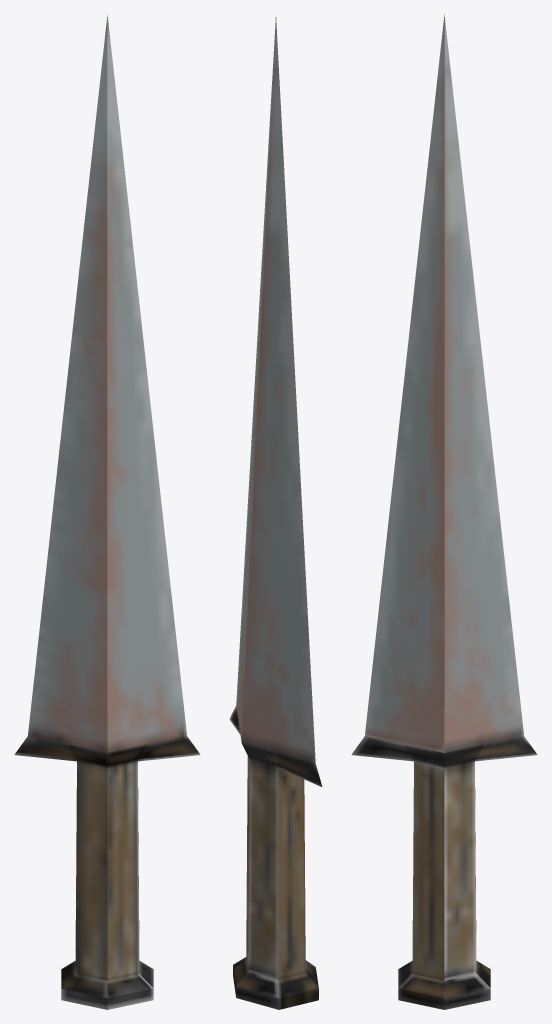
The model's file is dagger1.fbx.
The picture shows the model from 3 angles, left to right: view 1: azimuth 90°, elevation 25°; view 2: azimuth 210°, elevation 25°; view 3: azimuth 270°, elevation 25°; orthographic projection.
Visible parts, largest first — view 1: Circle; view 2: Circle; view 3: Circle.
Boxes of the visible parts, <box> form: Circle: <box>14,14,200,1009</box>; Circle: <box>229,17,322,1009</box>; Circle: <box>351,14,537,1009</box>.
Bounding box in the file's own units: 2.89 × 33.8 × 5.85.
